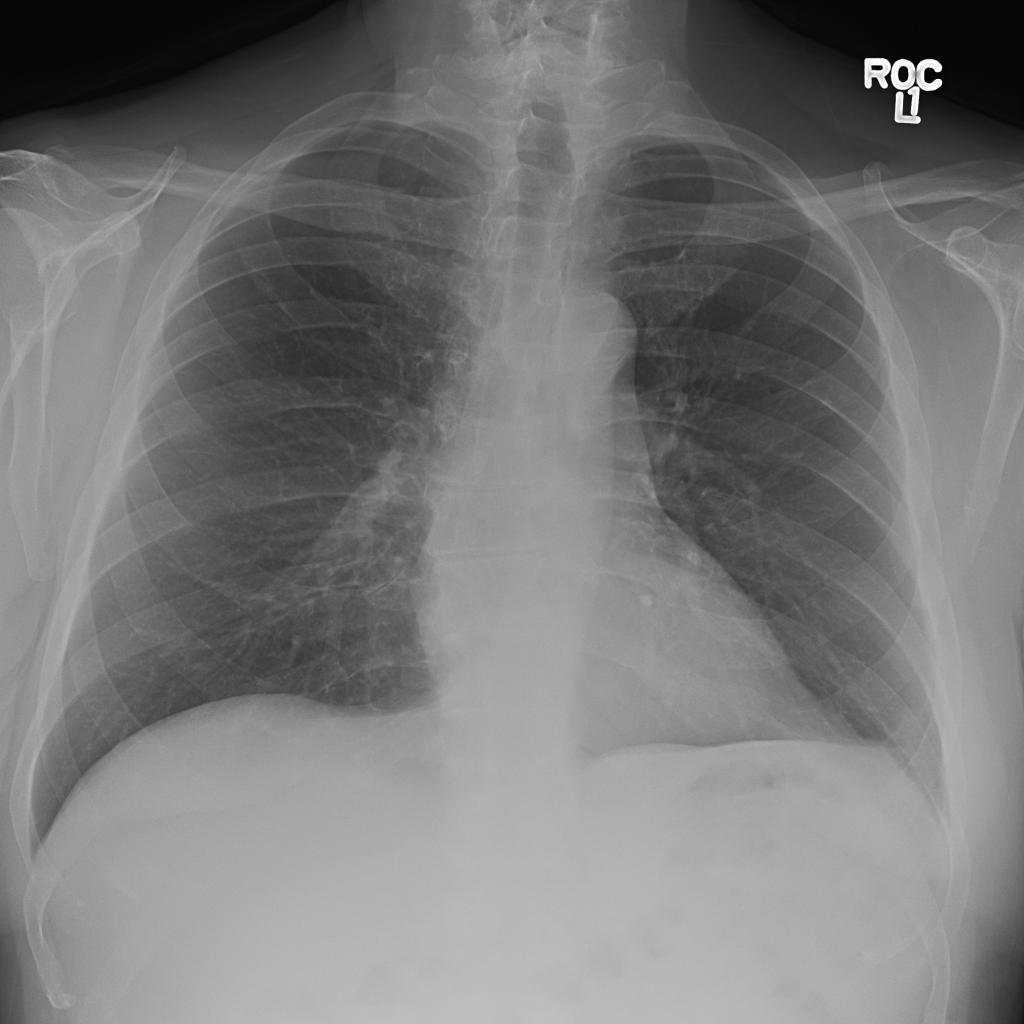Nodule: (311, 162, 350, 193)
